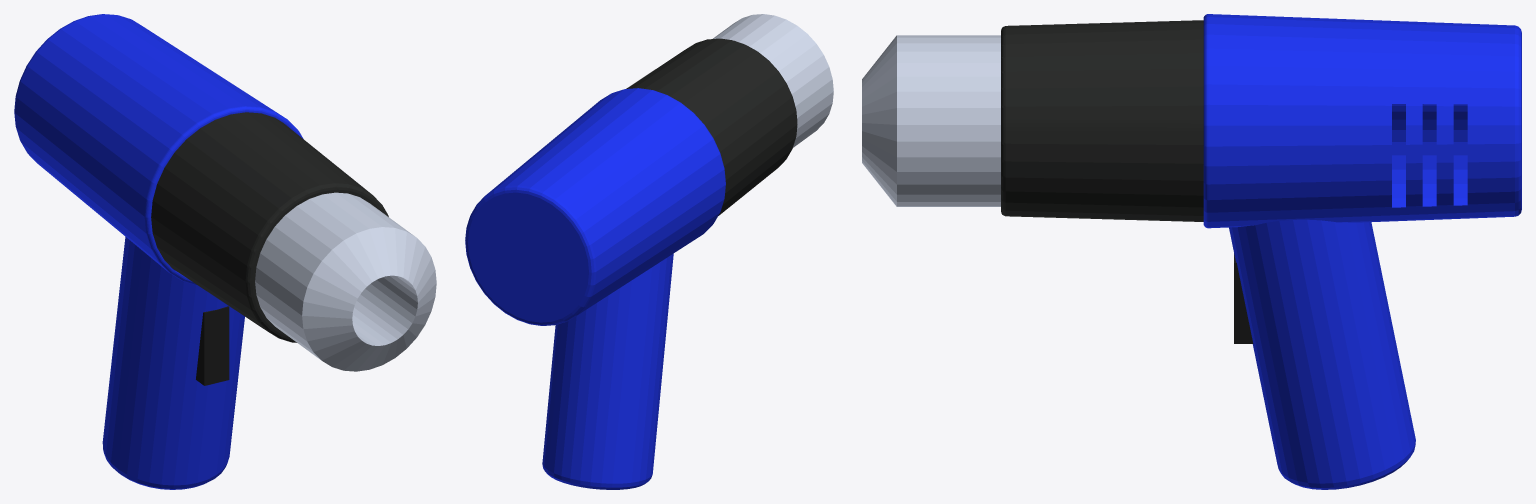
Rendered from HeatGun.fbx.
3 renders of one model, left to right at view 1: azimuth 30°, elevation 25°; view 2: azimuth 150°, elevation 25°; view 3: azimuth 270°, elevation 25°, orthographic. The views are drawn at different scales.
Parts seen in each view (by area): view 1: Cylinder.001; view 2: Cylinder.001; view 3: Cylinder.001.
Boxes of the visible parts, x1,y1,x2,y2 form: Cylinder.001: (14, 14, 436, 489); Cylinder.001: (465, 14, 833, 489); Cylinder.001: (862, 14, 1521, 489).
Bounding box in the file's own units: 448 × 1033 × 1379.
